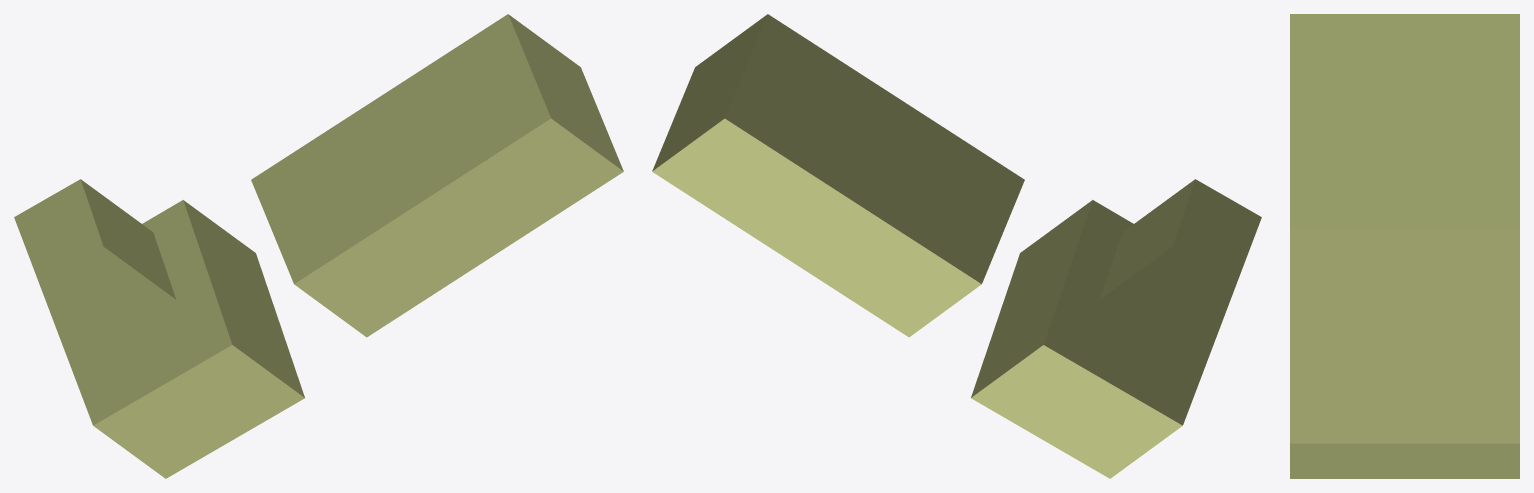
3 renders of one model, left to right at view 1: azimuth 30°, elevation 25°; view 2: azimuth 150°, elevation 25°; view 3: azimuth 270°, elevation 25°, orthographic. The views are drawn at different scales.
Visible parts, largest first — view 1: 0_1_0_2_0_0_3_2_1_2; view 2: 0_1_0_2_0_0_3_2_1_2; view 3: 0_1_0_2_0_0_3_2_1_2.
Part boxes in pixels (x1=…): 0_1_0_2_0_0_3_2_1_2: x1=14, y1=14, x2=623, y2=478; 0_1_0_2_0_0_3_2_1_2: x1=652, y1=14, x2=1261, y2=478; 0_1_0_2_0_0_3_2_1_2: x1=1290, y1=14, x2=1519, y2=478.
Bounding box in the file's own units: 25.57 × 14.12 × 6.
